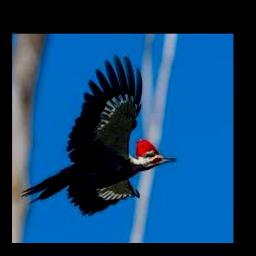Woodpecker: (21, 53, 176, 215)
